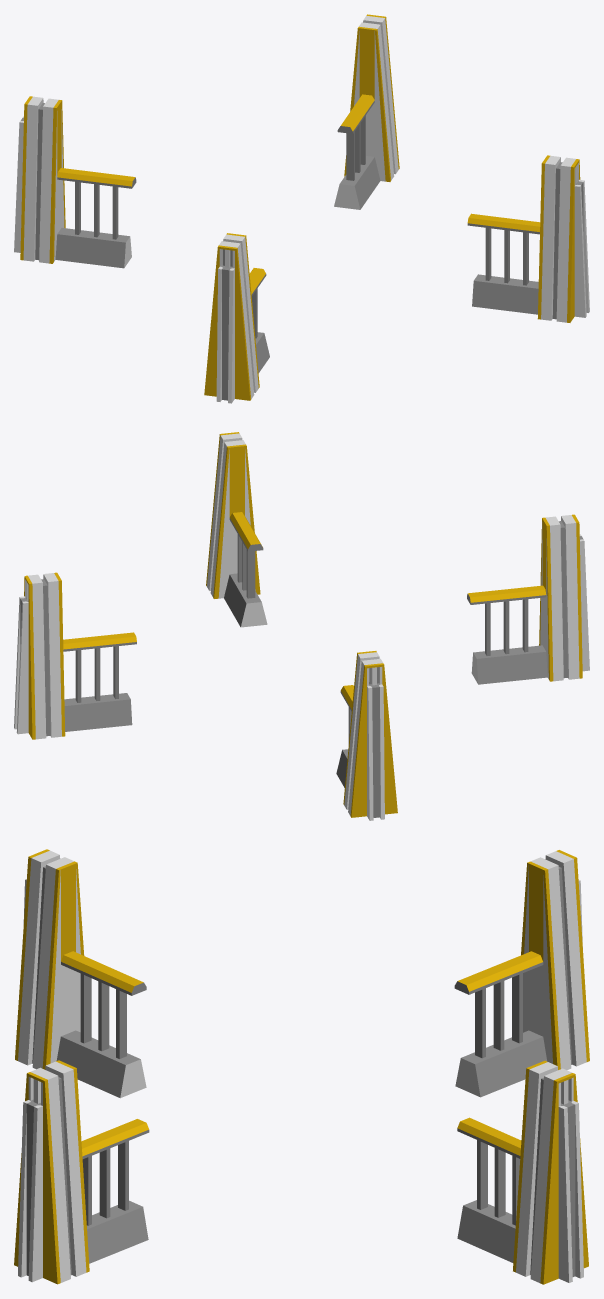
File: SideBridges.fbx
The picture shows the model from 3 angles, top to bottom: view 1: azimuth 30°, elevation 25°; view 2: azimuth 150°, elevation 25°; view 3: azimuth 270°, elevation 25°; orthographic projection. The views are drawn at different scales.
Parts seen in each view (by area): view 1: SideBridges; view 2: SideBridges; view 3: SideBridges.
Boxes of the visible parts, <box> form: SideBridges: <box>14,14,589,403</box>; SideBridges: <box>14,432,589,820</box>; SideBridges: <box>14,849,589,1284</box>.
Size of the model in its own units: 1297 by 491 by 1297.
